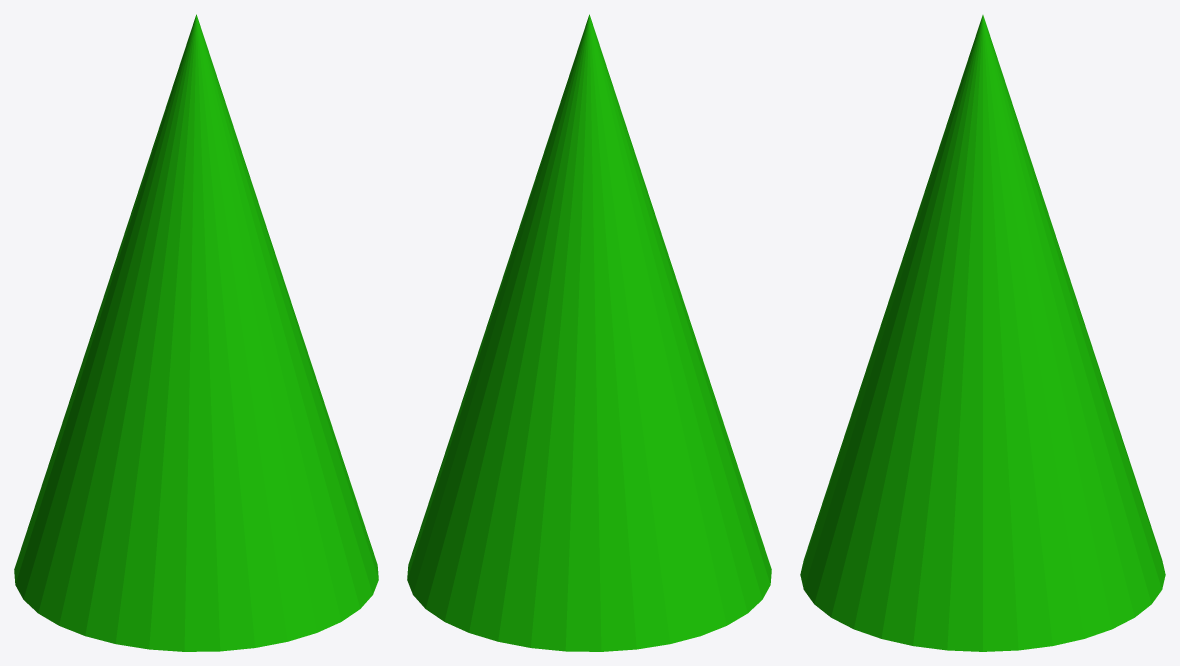
File: spotted party hat.fbx
3 views of the same model, side by side, from view 1: azimuth 30°, elevation 25°; view 2: azimuth 150°, elevation 25°; view 3: azimuth 270°, elevation 25° (orthographic).
Parts seen in each view (by area): view 1: Spotted Hat; view 2: Spotted Hat; view 3: Spotted Hat.
Part boxes in pixels (x1,y1,x2,y2): Spotted Hat: (14, 14, 378, 651); Spotted Hat: (407, 14, 771, 651); Spotted Hat: (800, 15, 1165, 651).
Size of the model in its own units: 75.93 by 129 by 75.93.
